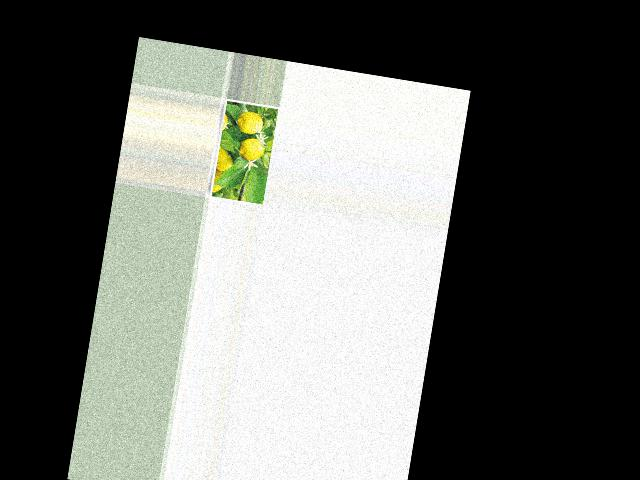lemon: (236, 136, 267, 161)
